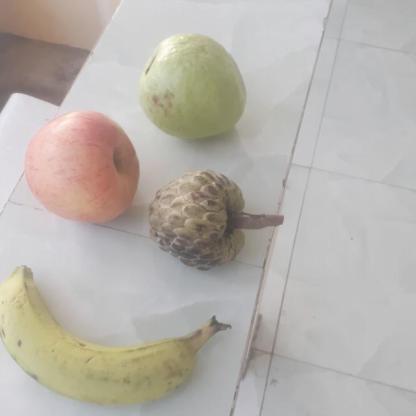annona: (150, 166, 252, 270)
apple: (23, 112, 142, 221)
banana: (1, 266, 228, 404)
guava: (142, 36, 249, 137)
